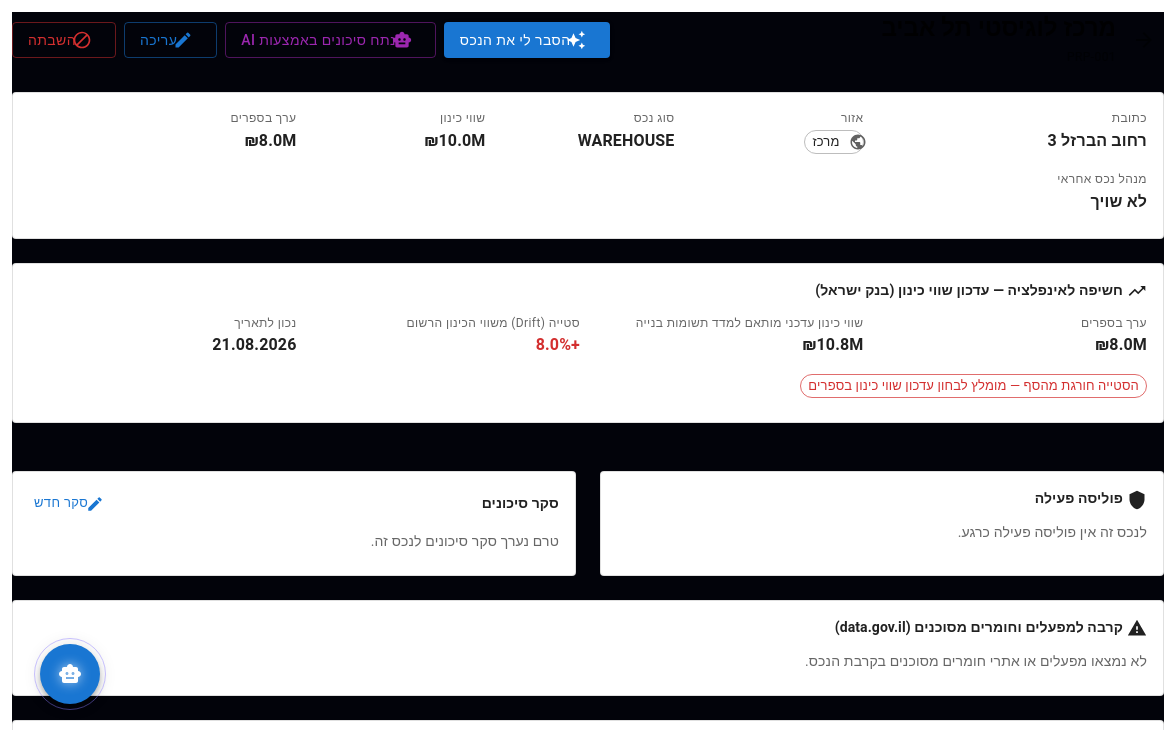
PropertyDetail — 'נתח סיכונים באמצעות AI' button (TODO_SPEC.md §7) › opens the AI Assistant and sends the exact property context, without the user typing the property id
Click the button "נתח סיכונים באמצעות AI". click: (330, 40)
box: [225,22,436,58]
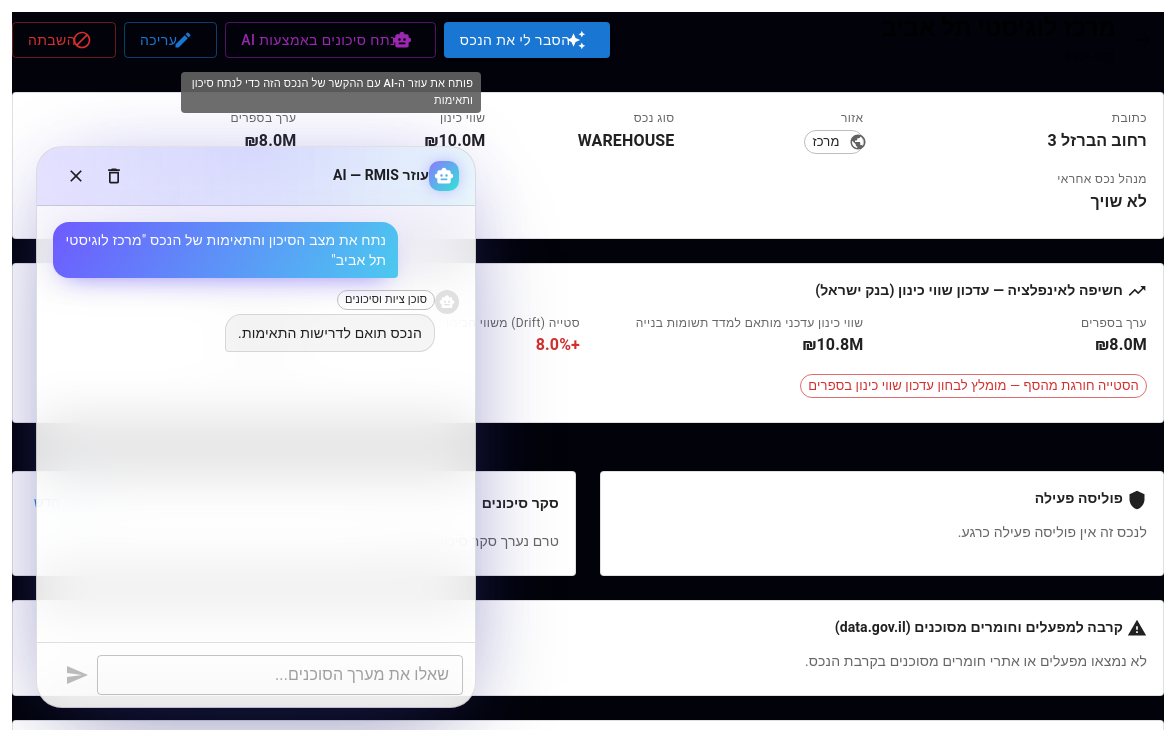
Result: the text "הנכס תואם לדרישות התאימות." is shown at [238,323,422,343]
